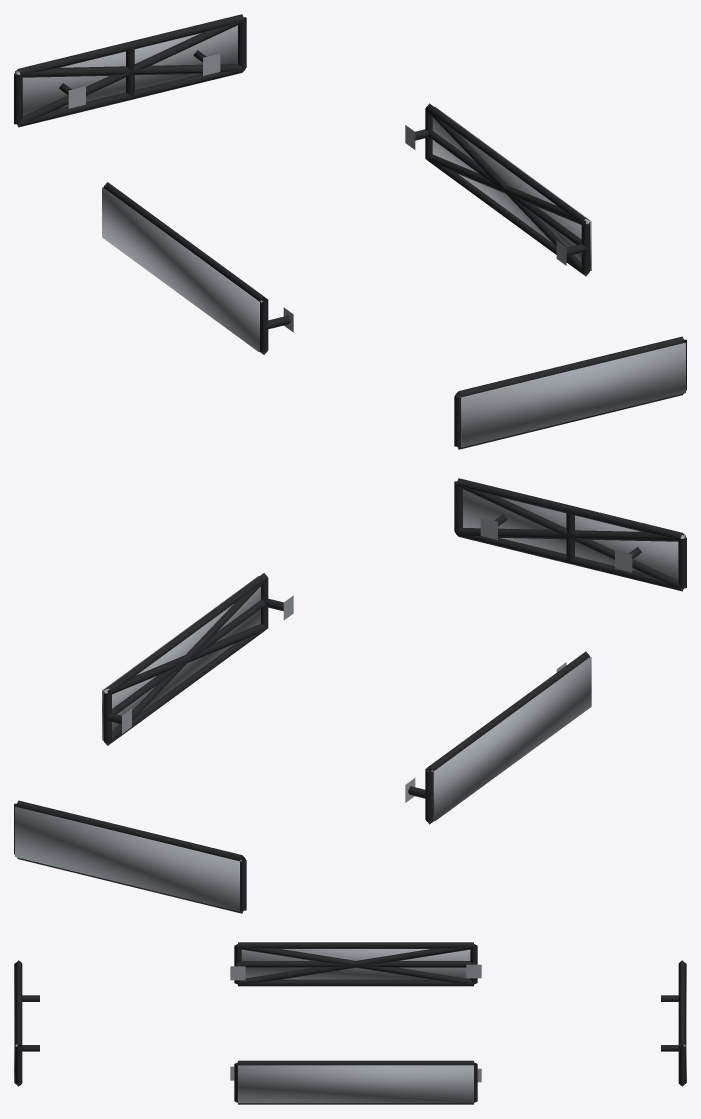
The model's file is hayase_retorno_protecao.glb.
3 renders of one model, top to bottom at view 1: azimuth 30°, elevation 25°; view 2: azimuth 150°, elevation 25°; view 3: azimuth 270°, elevation 25°, orthographic. The views are drawn at different scales.
Parts seen in each view (by area): view 1: Protection_front_Level3_Details, Protection_left_Level3_Details, Protection_rear_Level1_Details, Protection_rear_Level3_Details, Protection_right_Level1_Details, Protection_rear_Level2_Details, Protection_right_Level2_Details, Protection_right_Level3_Details, Protection_front_Level1_Details, Protection_left_Level1_Details; view 2: Protection_rear_Level3_Details, Protection_left_Level3_Details, Protection_front_Level1_Details, Protection_front_Level3_Details, Protection_right_Level1_Details, Protection_front_Level2_Details, Protection_right_Level2_Details, Protection_right_Level3_Details, Protection_rear_Level1_Details, Protection_left_Level1_Details; view 3: Protection_right_Level3_Details, Protection_left_Level2_Details, Protection_left_Level1_Details, Protection_left_Level3_Details, Protection_right_Level1_Details, Protection_rear_Level1_Details, Protection_front_Level1_Details.
Boxes of the visible parts, x1=… form: Protection_front_Level3_Details: x1=459, y1=343, x2=685, y2=447; Protection_left_Level3_Details: x1=102, y1=187, x2=262, y2=351; Protection_rear_Level1_Details: x1=14, y1=14, x2=246, y2=127; Protection_rear_Level3_Details: x1=15, y1=25, x2=237, y2=115; Protection_right_Level1_Details: x1=405, y1=103, x2=590, y2=276; Protection_rear_Level2_Details: x1=16, y1=20, x2=244, y2=126; Protection_right_Level2_Details: x1=425, y1=109, x2=588, y2=275; Protection_right_Level3_Details: x1=432, y1=106, x2=591, y2=270; Protection_front_Level1_Details: x1=454, y1=336, x2=686, y2=449; Protection_left_Level1_Details: x1=103, y1=182, x2=293, y2=354; Protection_rear_Level3_Details: x1=15, y1=807, x2=241, y2=911; Protection_left_Level3_Details: x1=431, y1=657, x2=591, y2=821; Protection_front_Level1_Details: x1=454, y1=478, x2=686, y2=591; Protection_front_Level3_Details: x1=463, y1=489, x2=685, y2=579; Protection_right_Level1_Details: x1=103, y1=573, x2=293, y2=745; Protection_front_Level2_Details: x1=456, y1=484, x2=684, y2=590; Protection_right_Level2_Details: x1=104, y1=579, x2=267, y2=745; Protection_right_Level3_Details: x1=102, y1=576, x2=260, y2=740; Protection_rear_Level1_Details: x1=14, y1=800, x2=246, y2=913; Protection_left_Level1_Details: x1=405, y1=651, x2=589, y2=824; Protection_right_Level3_Details: x1=238, y1=1065, x2=473, y2=1103; Protection_left_Level2_Details: x1=237, y1=946, x2=474, y2=984; Protection_left_Level1_Details: x1=230, y1=942, x2=481, y2=986; Protection_left_Level3_Details: x1=241, y1=949, x2=470, y2=979; Protection_right_Level1_Details: x1=230, y1=1060, x2=481, y2=1104; Protection_rear_Level1_Details: x1=661, y1=960, x2=685, y2=1086; Protection_front_Level1_Details: x1=15, y1=960, x2=39, y2=1086.
Size of the model in its own units: 2.1 by 0.354 by 4.88.
1 material, 1 textured.
